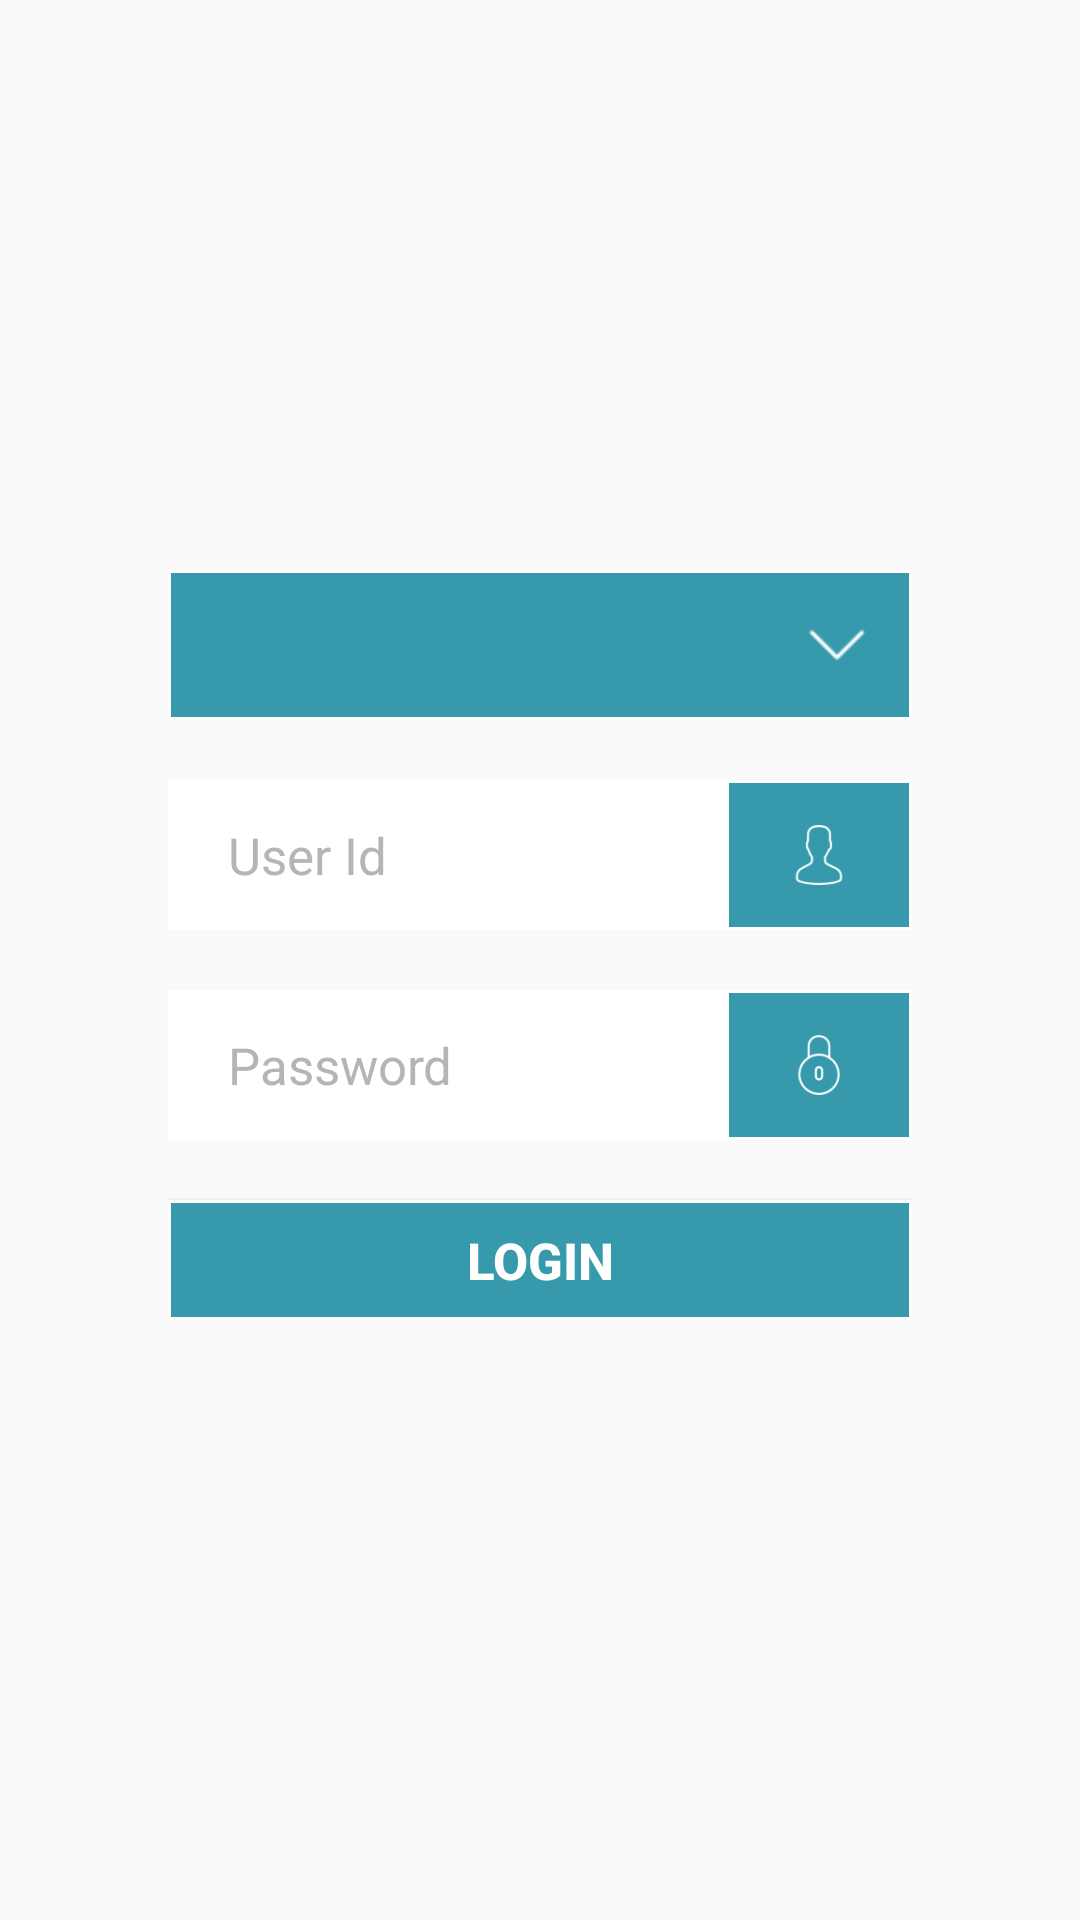

Where to tap for icons on this 1080×1920 app screen, as (x=x, y=y):
downarrow: (x=837, y=644)
locked: (x=819, y=1065)
